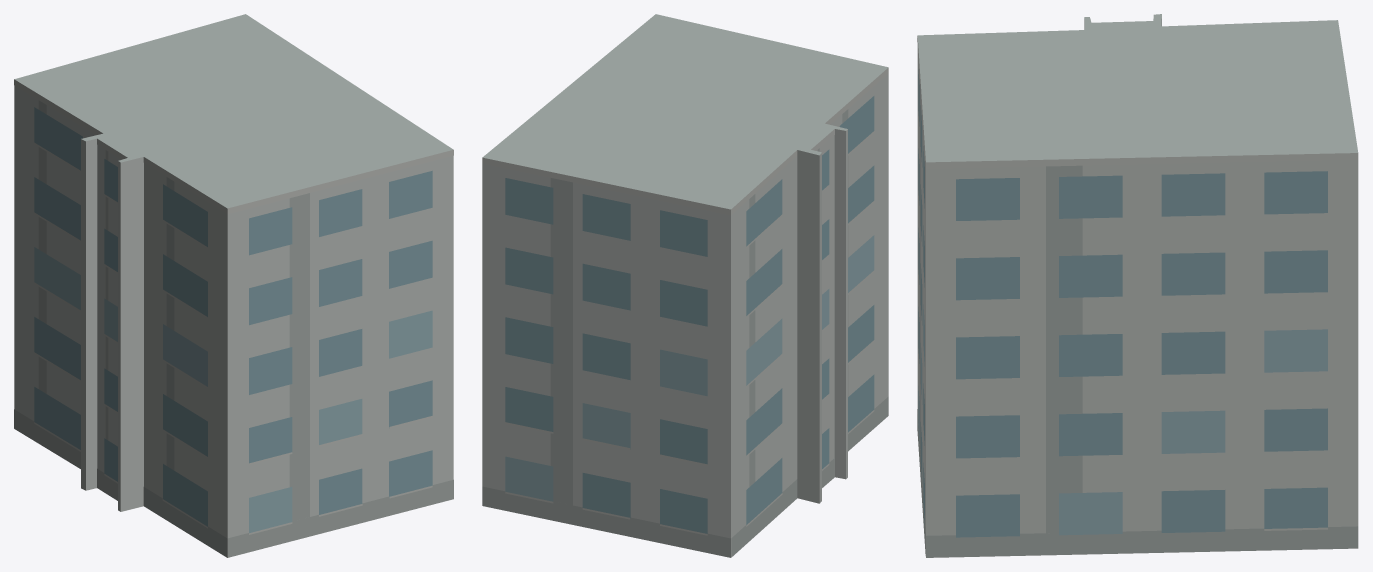
Rendered from survey-upis-32536103.glb.
3 renders of one model, left to right at view 1: azimuth 30°, elevation 25°; view 2: azimuth 150°, elevation 25°; view 3: azimuth 270°, elevation 25°, orthographic. The views are drawn at different scales.
Parts seen in each view (by area): view 1: survey-upis-32536103.tmp; view 2: survey-upis-32536103.tmp; view 3: survey-upis-32536103.tmp.
Boxes of the visible parts, x1,y1,x2,y2 form: survey-upis-32536103.tmp: (14, 14, 453, 557); survey-upis-32536103.tmp: (482, 14, 888, 557); survey-upis-32536103.tmp: (917, 14, 1358, 557).
Size of the model in its own units: 11.51 by 14.3 by 14.45.
